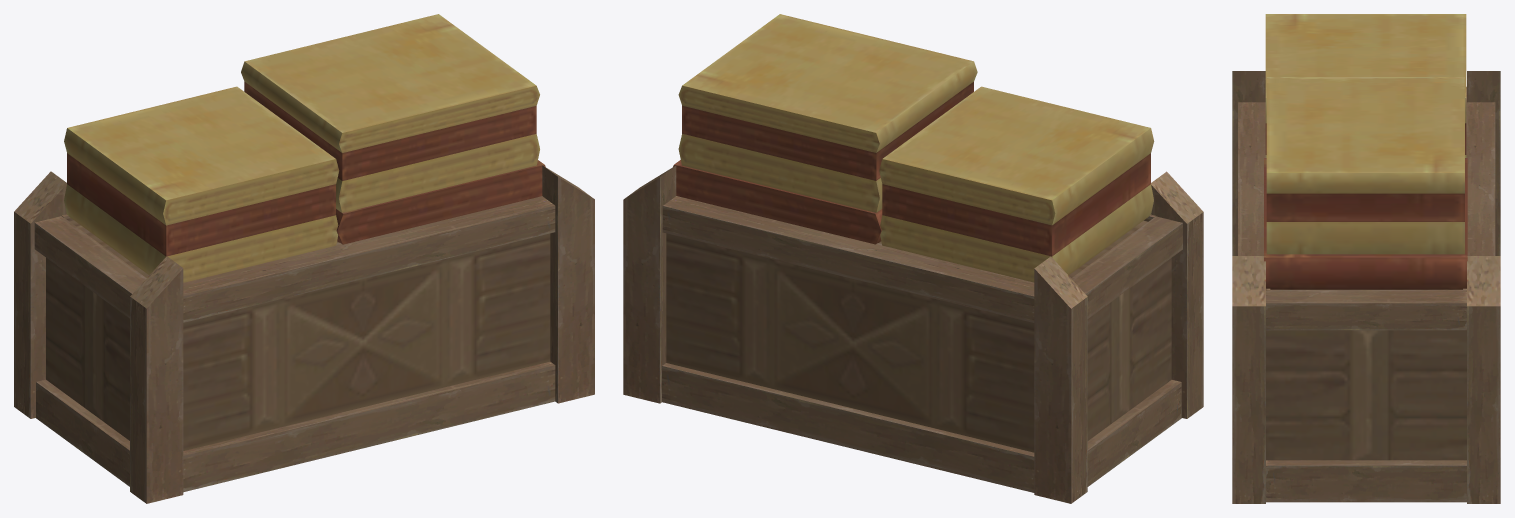
Rendered from Homeworld_Exterior_Xm_Decoration_Prop_Buliao_01_Lod0.fbx.
The picture shows the model from 3 angles, left to right: view 1: azimuth 30°, elevation 25°; view 2: azimuth 150°, elevation 25°; view 3: azimuth 270°, elevation 25°; orthographic projection.
Visible parts, largest first — view 1: Area_Xm_Prop_XKC_Dptanwei_01_Lod0; view 2: Area_Xm_Prop_XKC_Dptanwei_01_Lod0; view 3: Area_Xm_Prop_XKC_Dptanwei_01_Lod0.
Boxes of the visible parts, bbox=[...] form: Area_Xm_Prop_XKC_Dptanwei_01_Lod0: bbox=[14, 14, 594, 503]; Area_Xm_Prop_XKC_Dptanwei_01_Lod0: bbox=[623, 14, 1203, 503]; Area_Xm_Prop_XKC_Dptanwei_01_Lod0: bbox=[1232, 14, 1500, 503].
Size of the model in its own units: 1.26 by 0.8241 by 0.6449.
